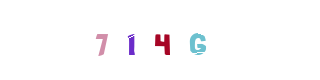1: (120, 0, 200, 80)
4: (123, 0, 203, 80)
7: (83, 0, 163, 80)
G: (157, 0, 237, 80)
